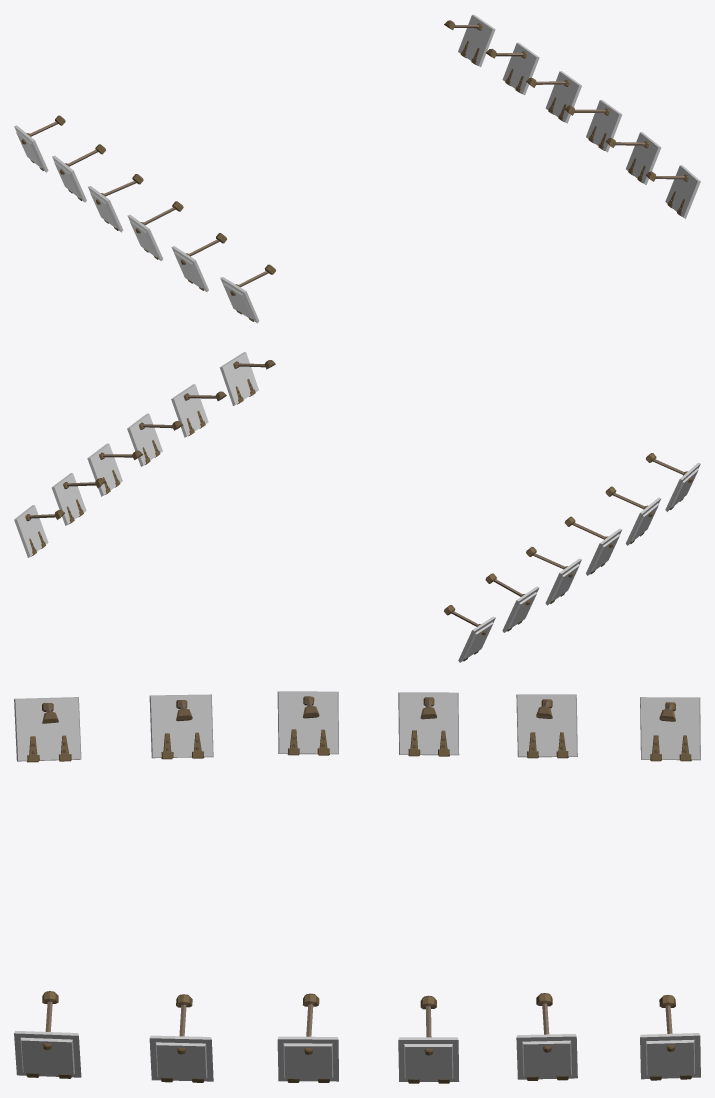
File: SM_Veh_Ship_L_Cannon_Hatch_Open_02.fbx
3 renders of one model, top to bottom at view 1: azimuth 30°, elevation 25°; view 2: azimuth 150°, elevation 25°; view 3: azimuth 270°, elevation 25°, orthographic. The views are drawn at different scales.
Parts seen in each view (by area): view 1: SM_Veh_Ship_L_Cannon_Hatch_Open_02; view 2: SM_Veh_Ship_L_Cannon_Hatch_Open_02; view 3: SM_Veh_Ship_L_Cannon_Hatch_Open_02.
Boxes of the visible parts, x1,y1,x2,y2 form: SM_Veh_Ship_L_Cannon_Hatch_Open_02: [14, 14, 700, 323]; SM_Veh_Ship_L_Cannon_Hatch_Open_02: [14, 352, 700, 662]; SM_Veh_Ship_L_Cannon_Hatch_Open_02: [14, 691, 700, 1083].
Bounding box in the file's own units: 1329 × 127 × 1103.
